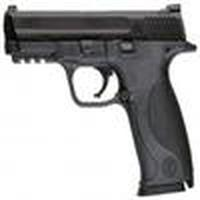gun: (1, 6, 199, 199)
